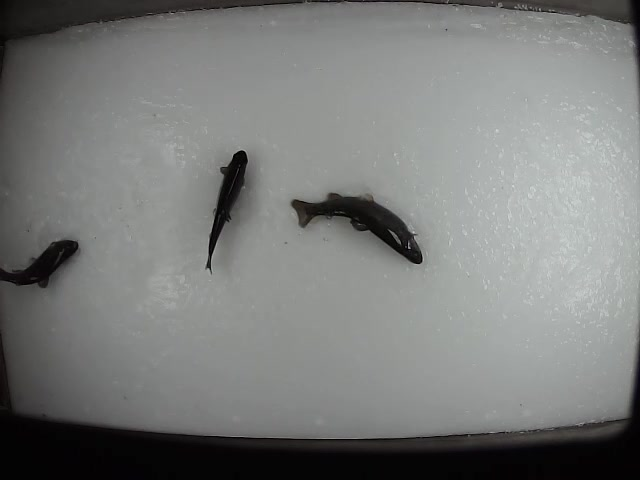Fish: (291, 192, 422, 264), (204, 150, 248, 274)
